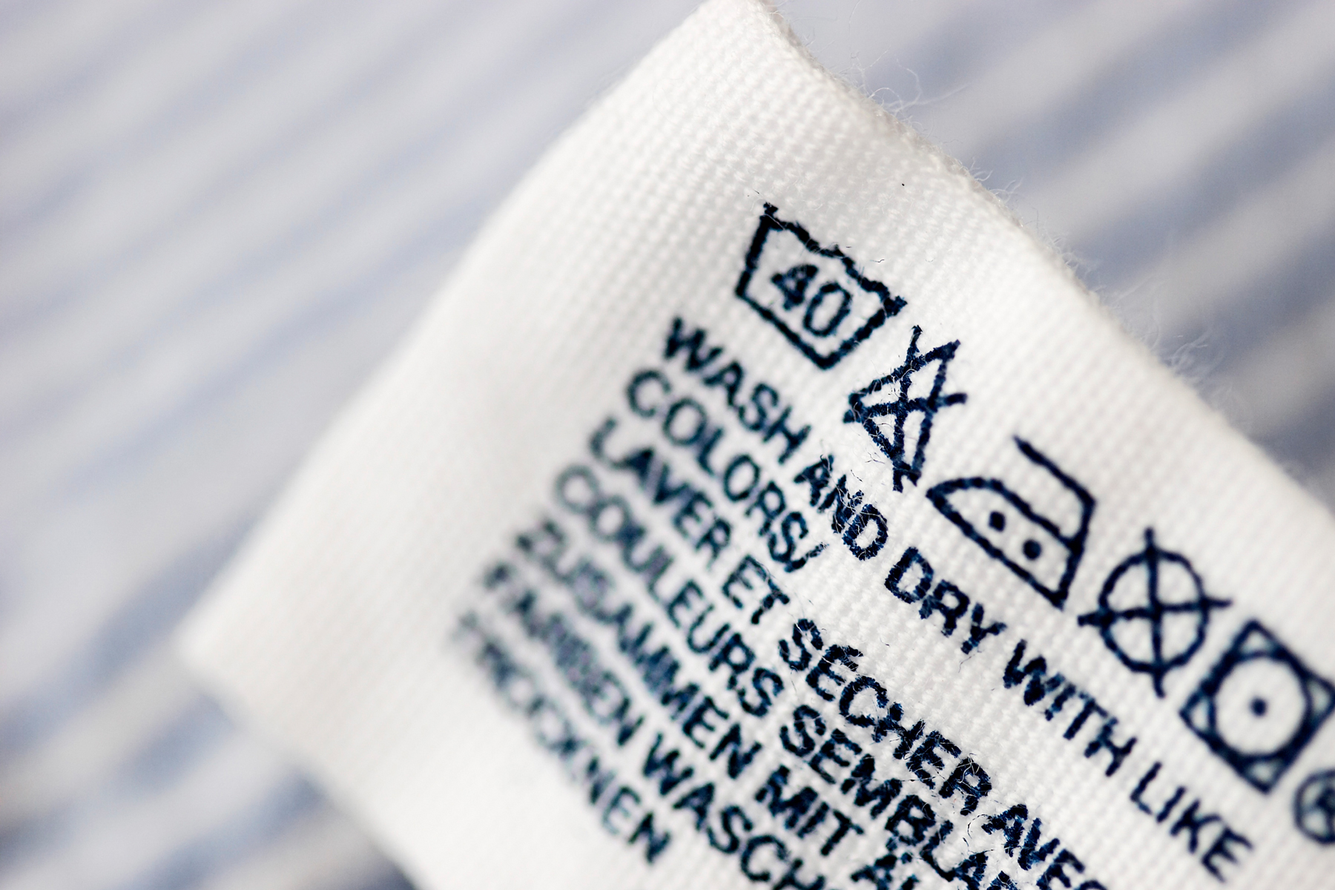ER_iron_medium_temp: (934, 423, 1097, 602)
ER_no_bleach: (838, 336, 964, 482)
ER_no_dry_clean: (1079, 531, 1217, 678)
ER_tumble_dry_low_heat: (1194, 626, 1331, 786)
ER_wash_40: (735, 202, 909, 364)
